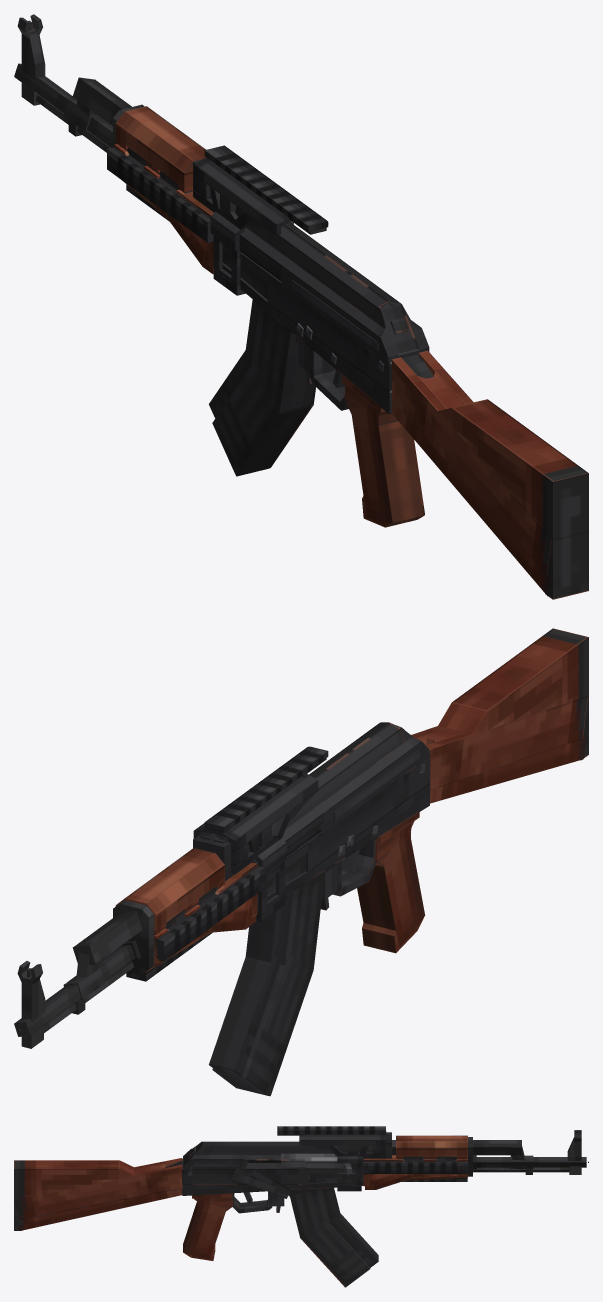
3 views of the same model, one above another, from view 1: azimuth 30°, elevation 25°; view 2: azimuth 150°, elevation 25°; view 3: azimuth 270°, elevation 25° (orthographic). The views are drawn at different scales.
Visible parts, largest first — view 1: gun, magazine, rail, tri_rail, ak_guard; view 2: gun, magazine, rail, tri_rail, ak_guard; view 3: gun, magazine, rail, tri_rail, ak_guard, action, switch.
Boxes of the visible parts, <box> form: gun: <box>14,14,588,599</box>; magazine: <box>209,299,315,476</box>; rail: <box>193,145,328,295</box>; tri_rail: <box>107,147,213,242</box>; ak_guard: <box>114,144,213,274</box>; gun: <box>14,628,588,1048</box>; magazine: <box>209,871,324,1096</box>; rail: <box>193,746,328,921</box>; tri_rail: <box>126,865,264,981</box>; ak_guard: <box>145,862,257,972</box>; gun: <box>14,1130,586,1260</box>; magazine: <box>289,1174,378,1287</box>; rail: <box>277,1126,385,1191</box>; tri_rail: <box>363,1160,468,1181</box>; ak_guard: <box>363,1155,467,1189</box>; action: <box>275,1153,352,1174</box>; switch: <box>231,1168,291,1198</box>.
Size of the model in its own units: 49.19 by 200 by 663.
